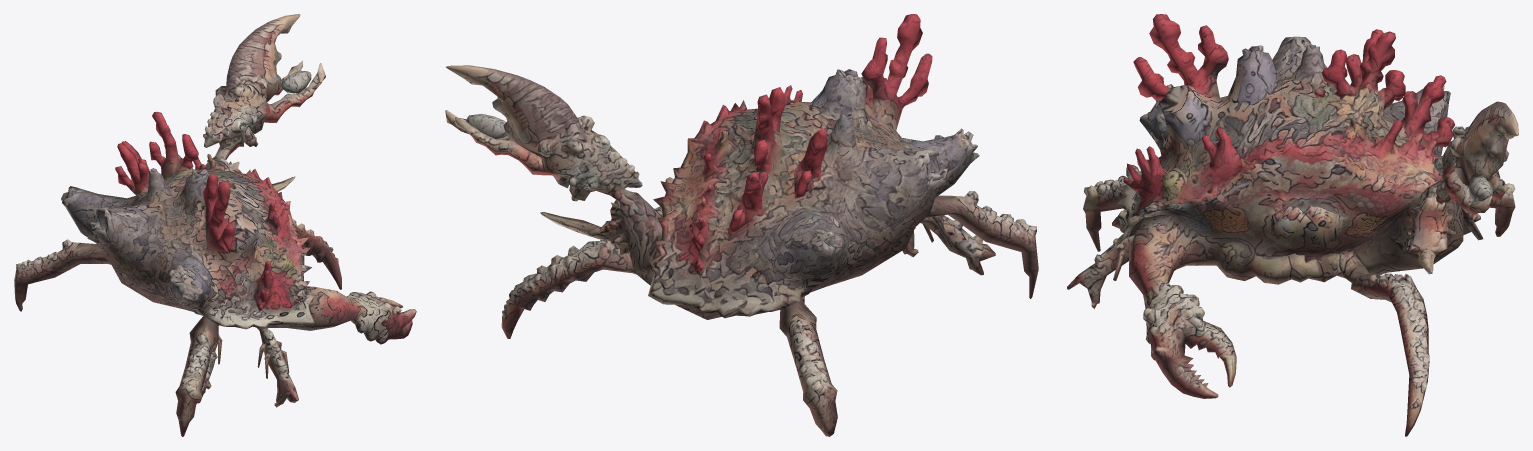
File: mcrab.glb
The picture shows the model from 3 angles, left to right: view 1: azimuth 30°, elevation 25°; view 2: azimuth 150°, elevation 25°; view 3: azimuth 270°, elevation 25°; orthographic projection. The views are drawn at different scales.
Visible parts, largest first — view 1: tripo_node_f0b3a9ff-8173-4cc3-84ef-5cd3c988a6ec; view 2: tripo_node_f0b3a9ff-8173-4cc3-84ef-5cd3c988a6ec; view 3: tripo_node_f0b3a9ff-8173-4cc3-84ef-5cd3c988a6ec.
Part boxes in pixels (bbox=[...]): tripo_node_f0b3a9ff-8173-4cc3-84ef-5cd3c988a6ec: bbox=[14, 14, 416, 436]; tripo_node_f0b3a9ff-8173-4cc3-84ef-5cd3c988a6ec: bbox=[445, 14, 1038, 436]; tripo_node_f0b3a9ff-8173-4cc3-84ef-5cd3c988a6ec: bbox=[1067, 14, 1518, 436].
Size of the model in its own units: 0.9941 by 0.7519 by 0.998.
Materials: 1 (1 with a texture image).
